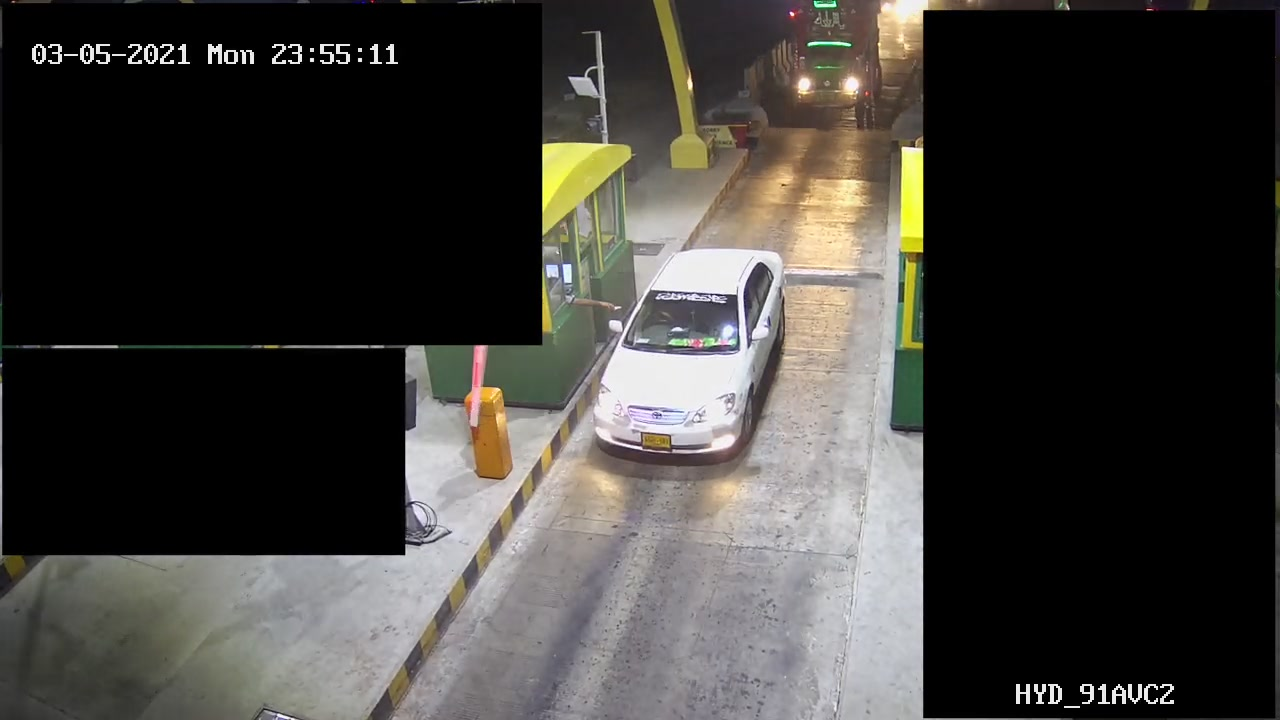F1: (571, 236, 803, 479)
